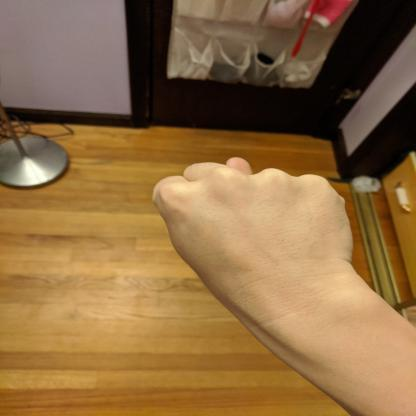N: (146, 152, 362, 300)
